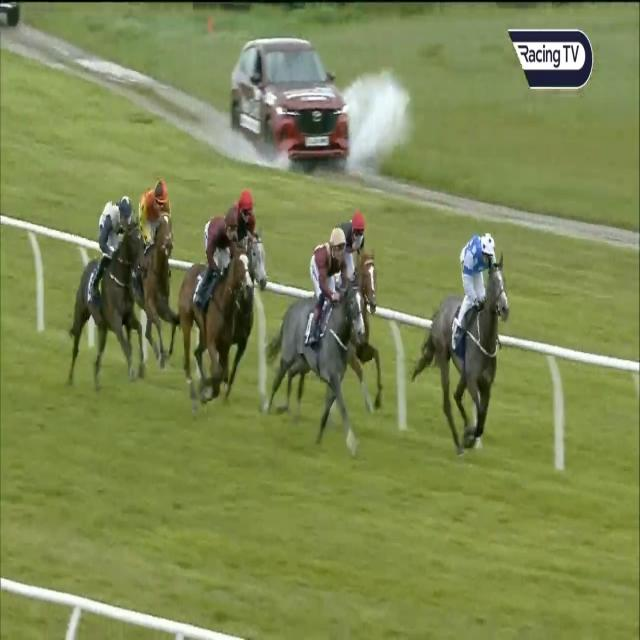horses-racing: (273, 232, 372, 458), (416, 233, 509, 454), (174, 196, 254, 410), (70, 194, 153, 390), (328, 185, 394, 355), (133, 163, 182, 375), (218, 168, 278, 288)
